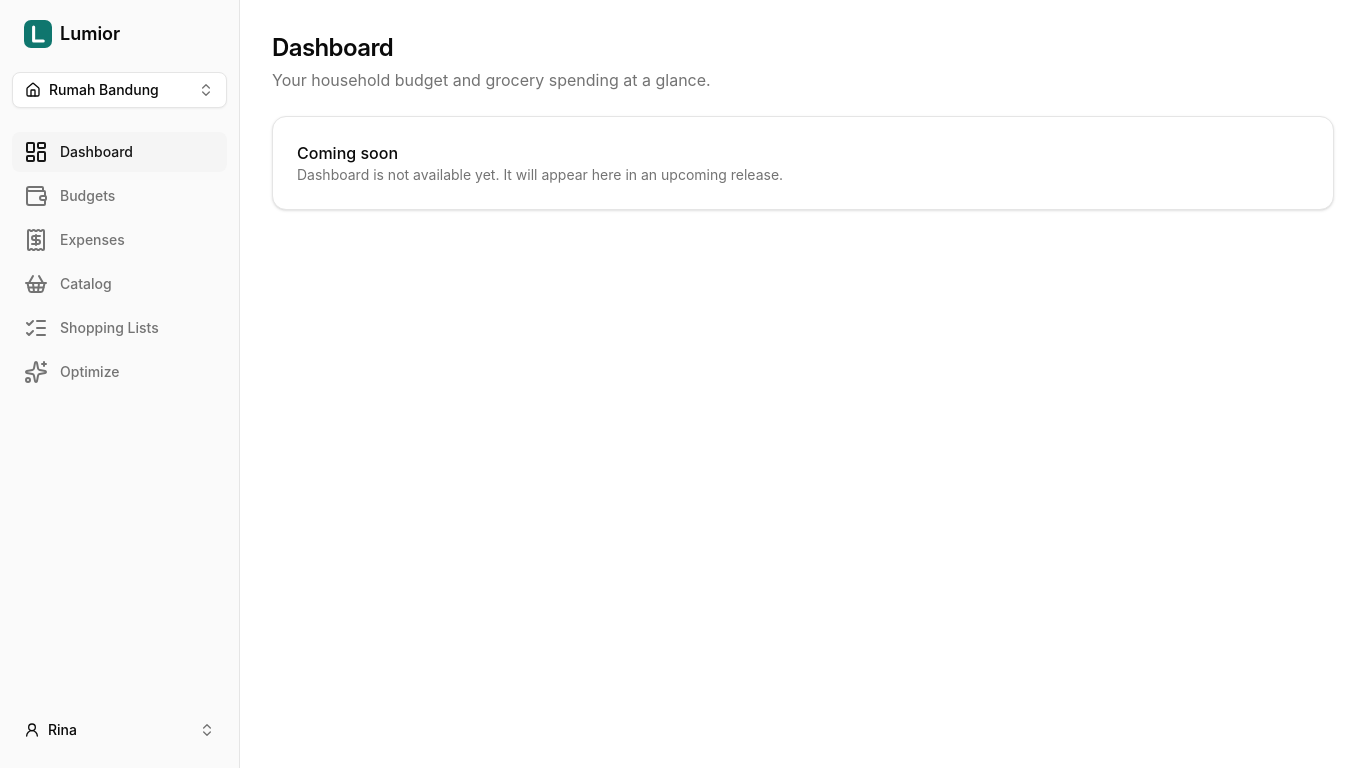
Test: account menu › shows the name, account settings, and sign out
This screenshot has width=1366, height=768.
Click the button with aria-label "Account: Rina" at (120, 730), box left=12, top=712, right=227, bottom=748
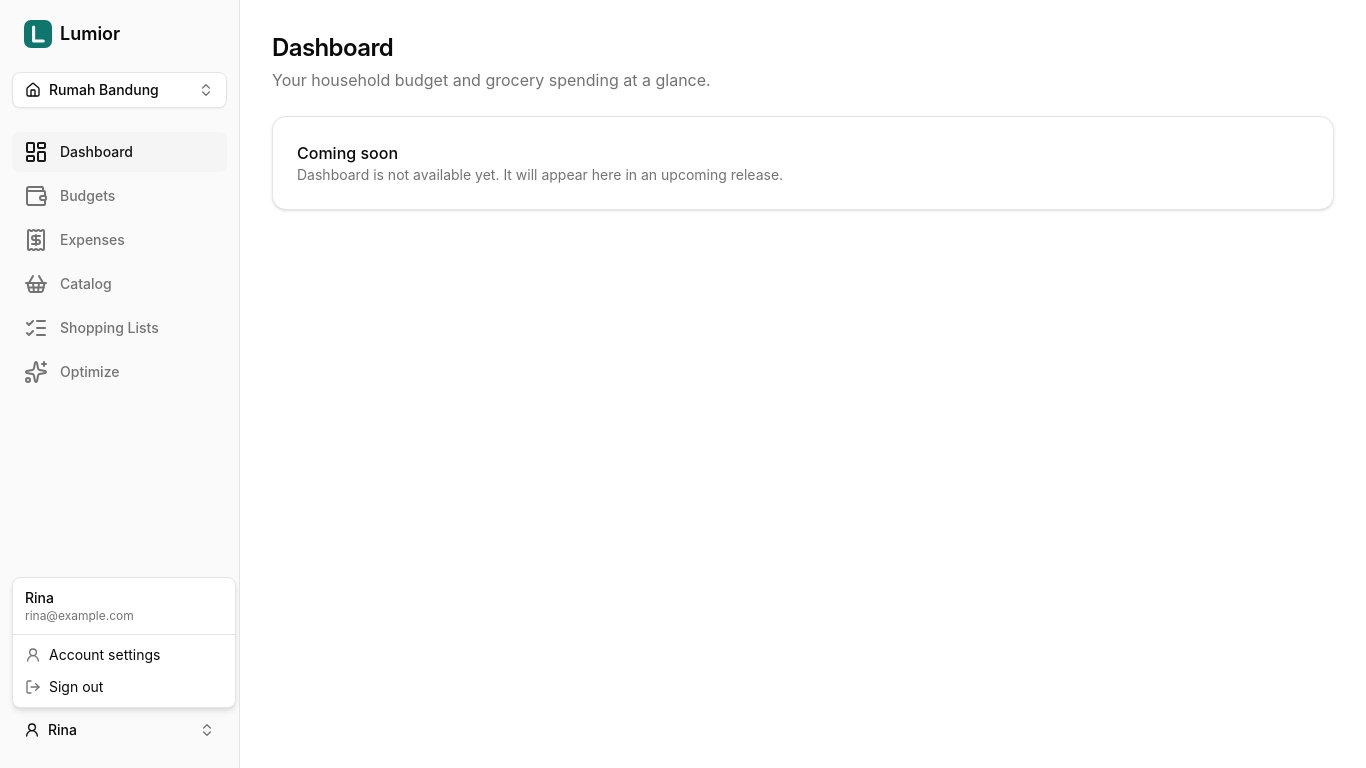
Now the 1st text "Rina" is shown, box left=25, top=589, right=54, bottom=606
Now the menu item "Sign out" is shown, box left=25, top=678, right=103, bottom=695
